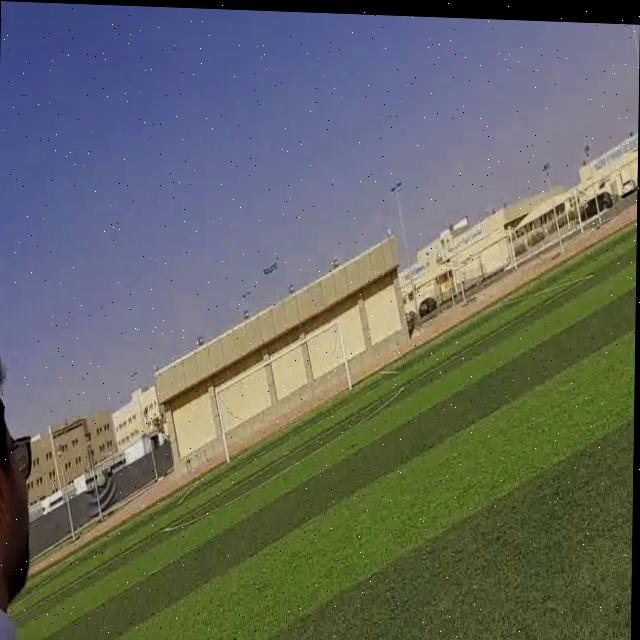drone: (257, 249, 281, 283)
